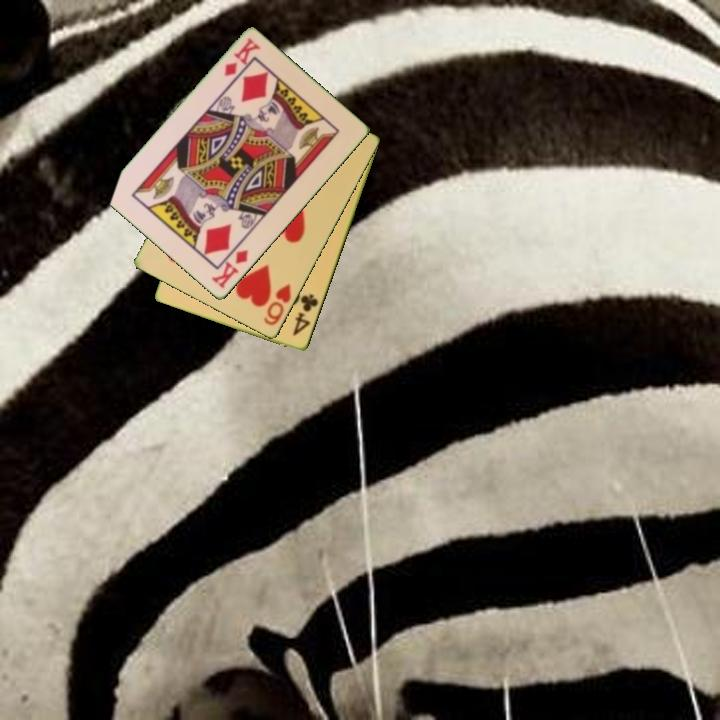4c: (289, 291, 321, 339)
6h: (260, 280, 294, 329)
Kd: (208, 246, 251, 292), (220, 35, 263, 80)
